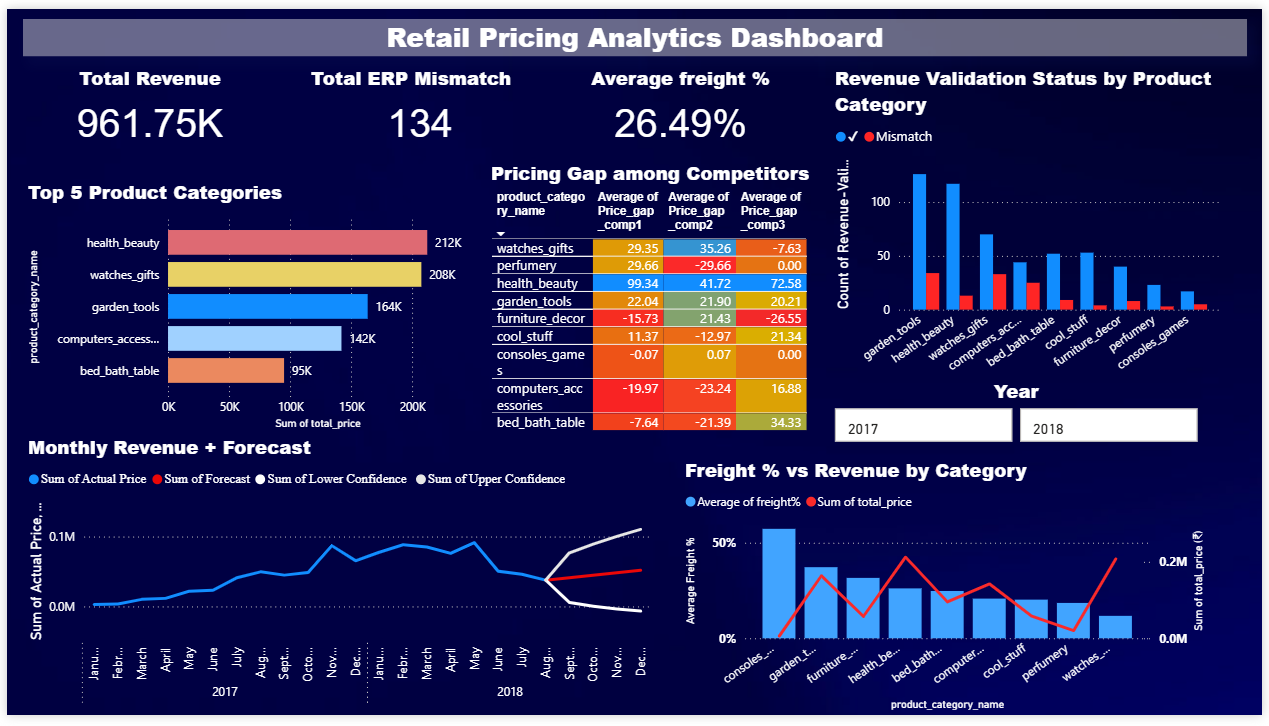

The page's visual inventory and layout, read from the dashboard file:
{"tool":"powerbi","page":{"name":"Dashboard","canvas":[1280,720],"ordinal":0},"visuals":[{"type":"lineClusteredColumnComboChart","title":"Freight % vs Revenue by Category","fields":{"Category":["Retail_Product.product_category_name"],"Y":["Avg(Retail_Product.freight%)"],"Y2":["Sum(Retail_Product.total_price)"]},"box":[687,456,540,264],"z":0},{"type":"clusteredColumnChart","title":"Revenue Validation Status by Product Category","fields":{"Category":["Retail_Product.product_category_name"],"Y":["CountNonNull(Retail_Product.Revenue-Validation)"],"Series":["Retail_Product.Revenue-Validation"]},"box":[840,56,404,329],"z":1000},{"type":"card","title":"Total ERP Mismatch ","fields":{"Values":["Retail_Product.Total_ERP_Mismatches"]},"box":[305,56,233,89],"z":2000},{"type":"card","title":"Total Revenue","fields":{"Values":["Sum(Retail_Product.total_price)"]},"box":[24,56,243,89],"z":3000},{"type":"card","title":"Average freight %","fields":{"Values":["Avg(Retail_Product.freight%)"]},"box":[576.1,56.5,221.7,89.1],"z":4000},{"type":"lineChart","title":"Monthly Revenue + Forecast","fields":{"Y":["Sum(Future Revenue.Actual Price)","Sum(Future Revenue.Forecast)","Sum(Future Revenue.Lower Confidence )","Sum(Future Revenue.Upper Confidence )"],"Category":["Future Revenue.Row Labels.Variation.Date Hierarchy.Year","Future Revenue.Row Labels.Variation.Date Hierarchy.Month"]},"box":[16,433,645,287],"z":5000},{"type":"advancedSlicerVisual","fields":{"Values":["Retail_Product.Year"]},"box":[840,376,380,71],"z":6000},{"type":"textbox","title":"Retail Pricing Analytics Dashboard\n\n","box":[16,10.6,1248.9,38.3],"z":7000},{"type":"barChart","title":"Top 5 Product Categories","fields":{"Category":["Retail_Product.product_category_name"],"Y":["Sum(Retail_Product.total_price)"]},"box":[16,172,473,261],"z":8000},{"type":"tableEx","title":"Pricing Gap among Competitors","fields":{"Values":["Retail_Product.product_category_name","Avg(Retail_Product.Price_gap_comp1)","Avg(Retail_Product.Price_gap_comp2)","Avg(Retail_Product.Price_gap_comp3)"]},"box":[489,153,343,294],"z":9000}]}

Visuals, with their boxes in screenshot pixels (x1, y1, x2, y2), scaled from the page's 1280x720 canvas onto the 1269x726 screenshot:
"Freight % vs Revenue by Category" lineClusteredColumnComboChart: region(681, 460, 1216, 725)
"Revenue Validation Status by Product Category" clusteredColumnChart: region(833, 56, 1233, 388)
"Total ERP Mismatch " card: region(302, 56, 533, 146)
"Total Revenue" card: region(24, 56, 265, 146)
"Average freight %" card: region(571, 57, 791, 147)
"Monthly Revenue + Forecast" lineChart: region(16, 437, 655, 725)
advancedSlicerVisual - Retail_Product.Year: region(833, 379, 1210, 451)
"Retail Pricing Analytics Dashboard

" textbox: region(16, 11, 1254, 49)
"Top 5 Product Categories" barChart: region(16, 173, 485, 437)
"Pricing Gap among Competitors" tableEx: region(485, 154, 825, 451)
